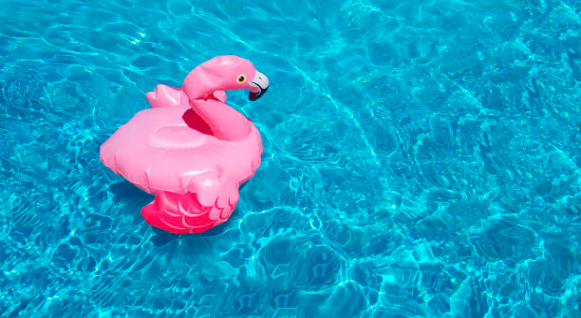Flamingo: (94, 52, 270, 236)
